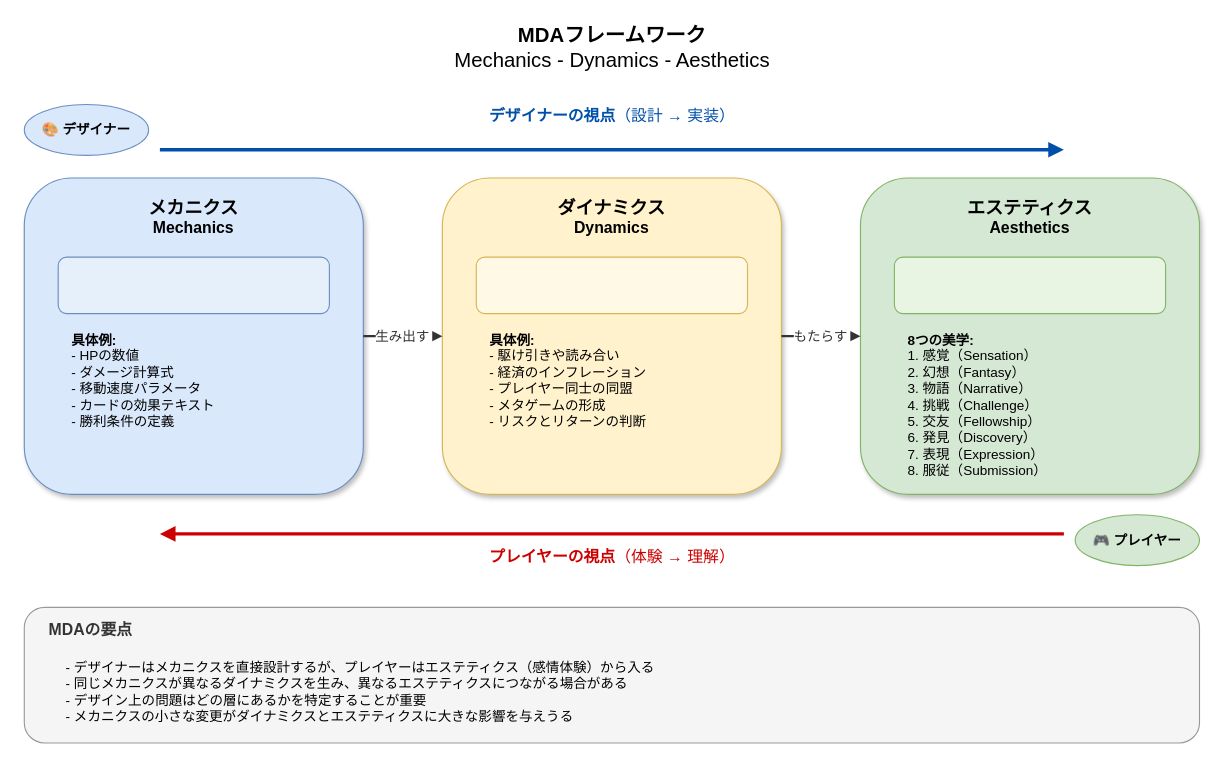
This 1226x763 diagram has some shape labels left out. The shapes that lost their labels are listed below. From the top down, each one's centre as x and y in pixels, then its label:
(193,285): ゲームのルール、データ、 アルゴリズム
(611,285): プレイ中に生まれる 振る舞い・パターン
(1029,285): プレイヤーが感じる 感情体験・面白さ
